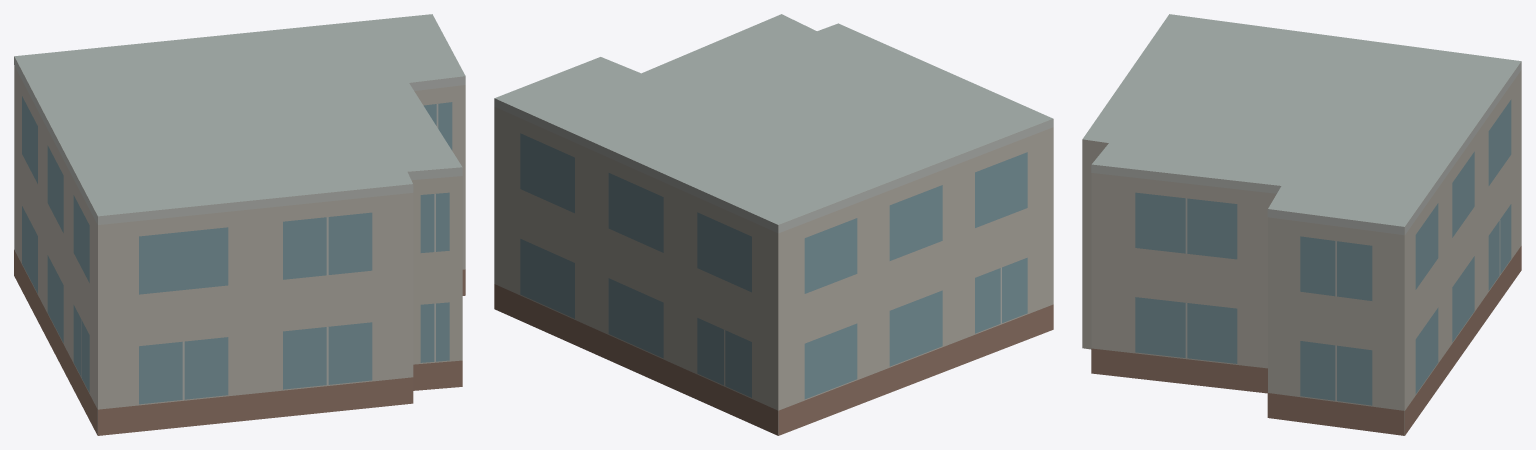
File: survey-upis-32681319.glb
The picture shows the model from 3 angles, left to right: view 1: azimuth 30°, elevation 25°; view 2: azimuth 150°, elevation 25°; view 3: azimuth 270°, elevation 25°; orthographic projection. The views are drawn at different scales.
Parts seen in each view (by area): view 1: survey-upis-32681319.tmp; view 2: survey-upis-32681319.tmp; view 3: survey-upis-32681319.tmp.
Part boxes in pixels (x1,y1,x2,y2): survey-upis-32681319.tmp: [14, 14, 465, 435]; survey-upis-32681319.tmp: [494, 14, 1053, 435]; survey-upis-32681319.tmp: [1082, 14, 1521, 435].
Size of the model in its own units: 13.34 by 6.1 by 11.63.
